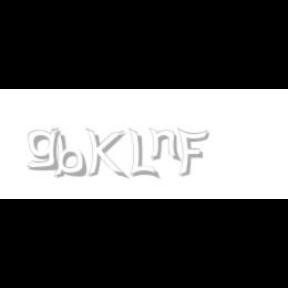F: (177, 128, 209, 178)
K: (85, 128, 125, 180)
L: (129, 128, 157, 180)
b: (52, 128, 90, 178)
g: (26, 128, 64, 171)
n: (148, 128, 182, 162)
